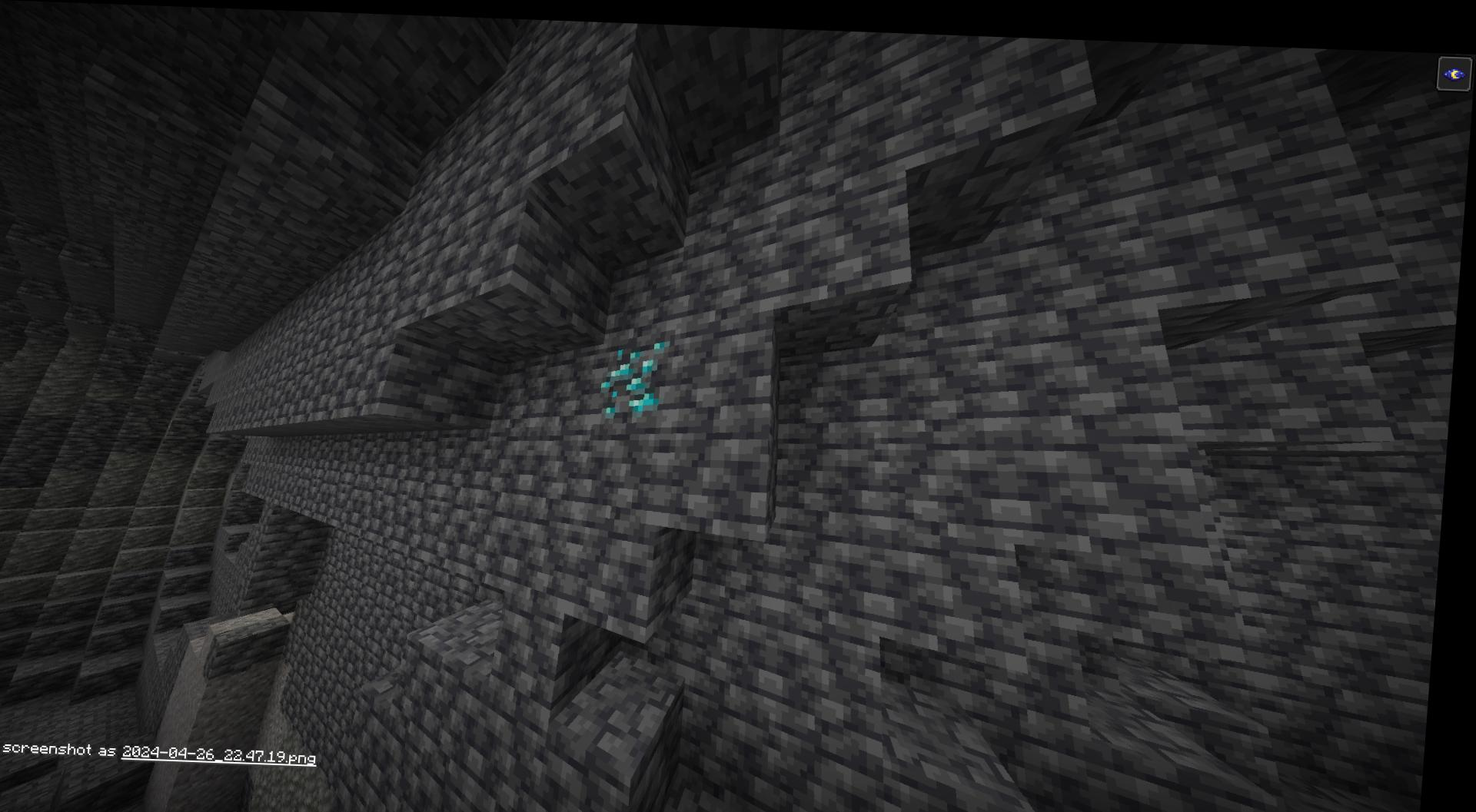diamond ore: (601, 331, 673, 413)
